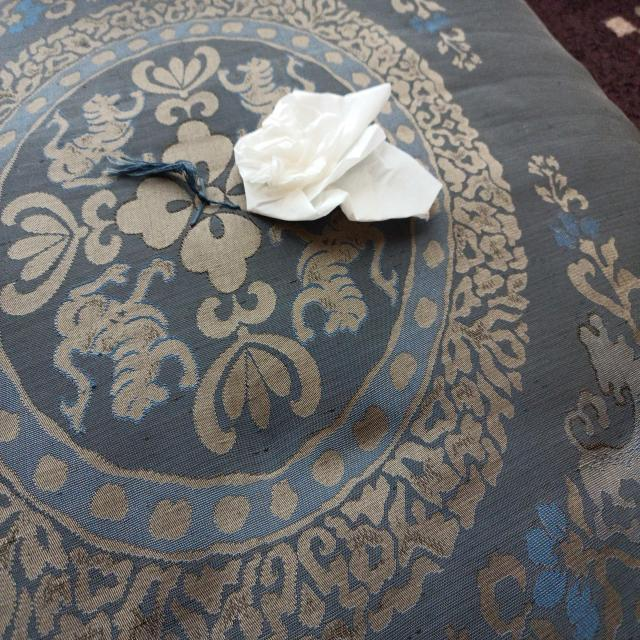Paper: (215, 92, 445, 252)
